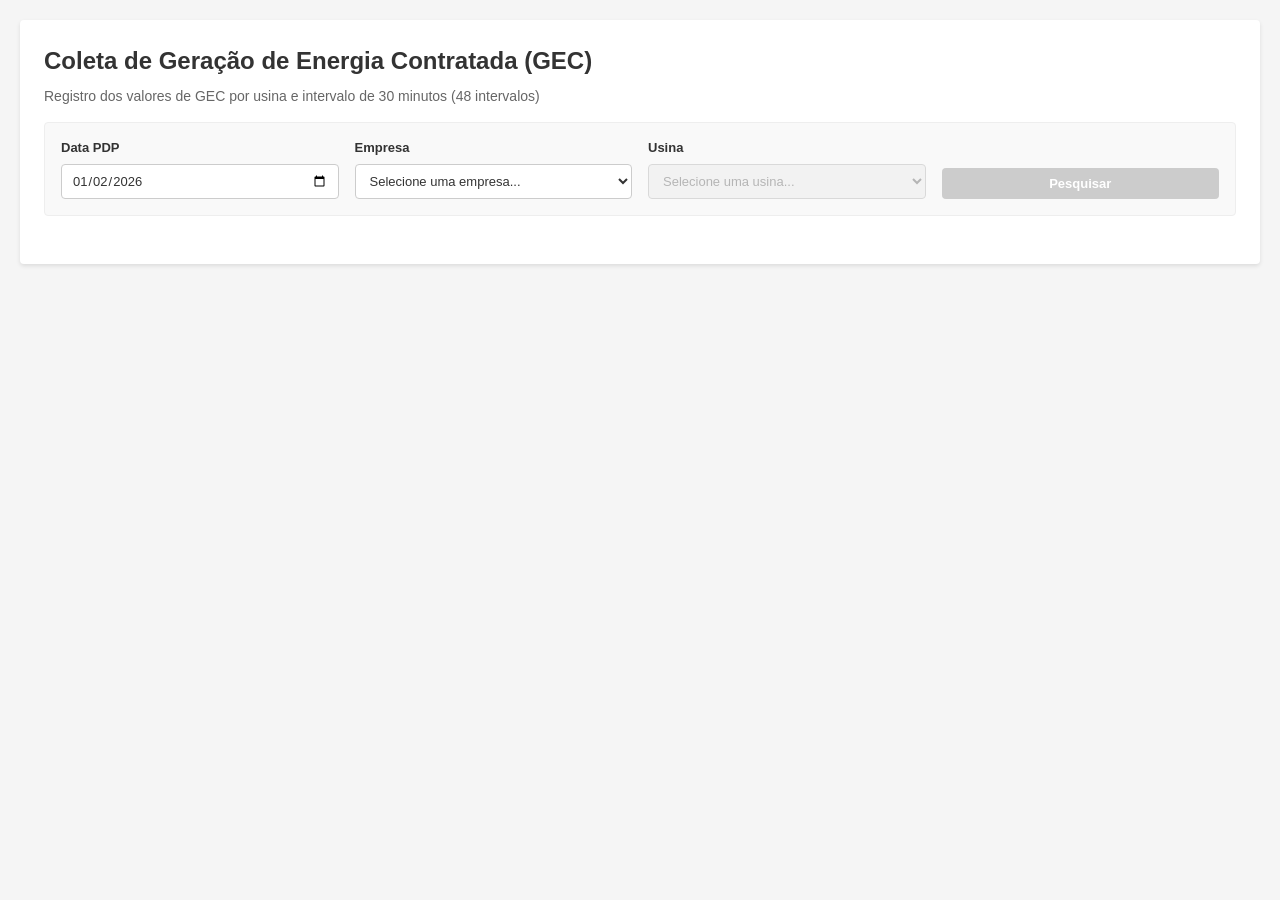
Test case: GEC Component › deve carregar dados para todas as usinas e somar corretamente
Step 1. Select "Empresa Geradora Norte" in the dropdown with test id "company-filter" → {"x": 493, "y": 181}, box [354,164,632,199]
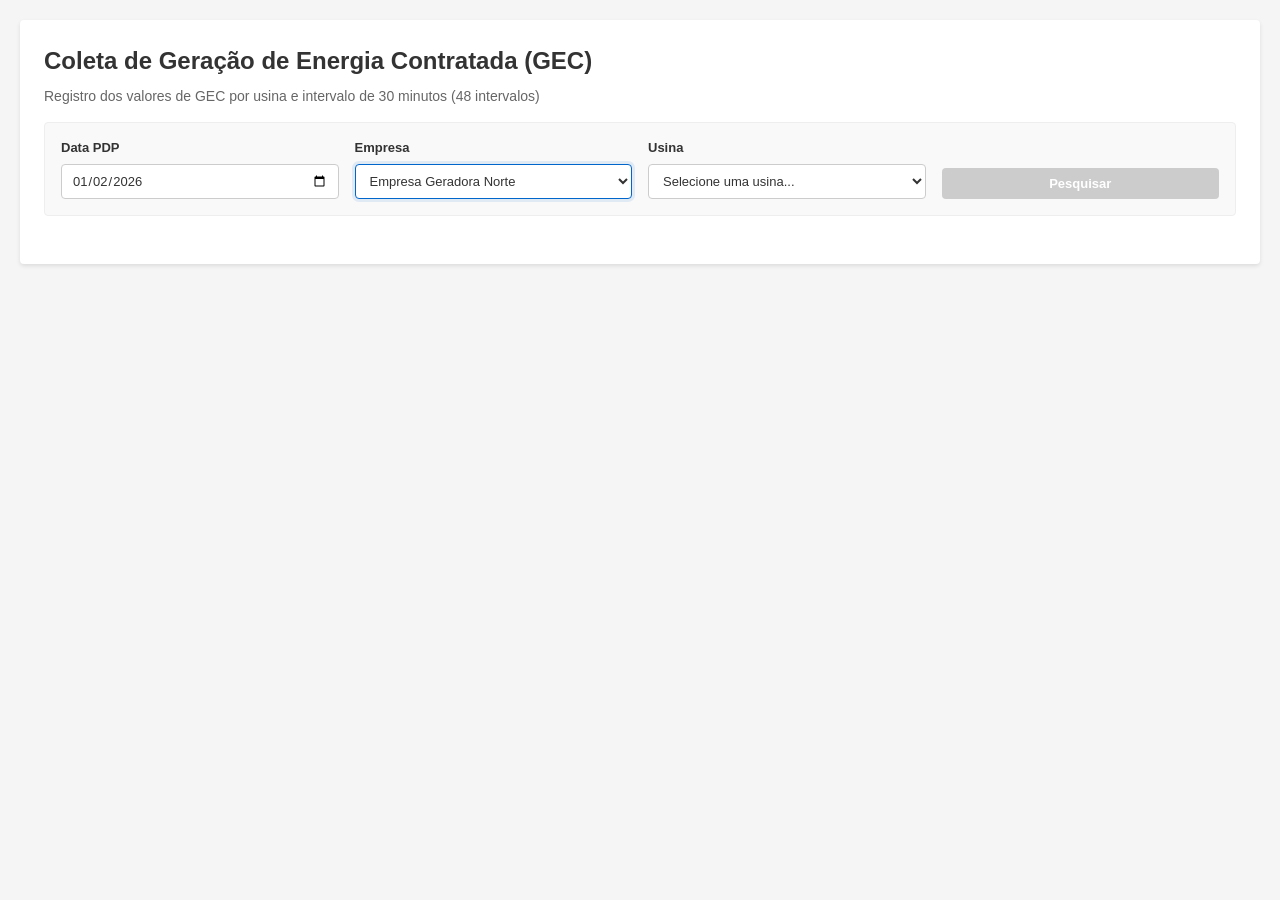
Step 2. Select "Todas as usinas" in the dropdown with test id "plant-filter" → {"x": 787, "y": 181}, box [648,164,926,199]
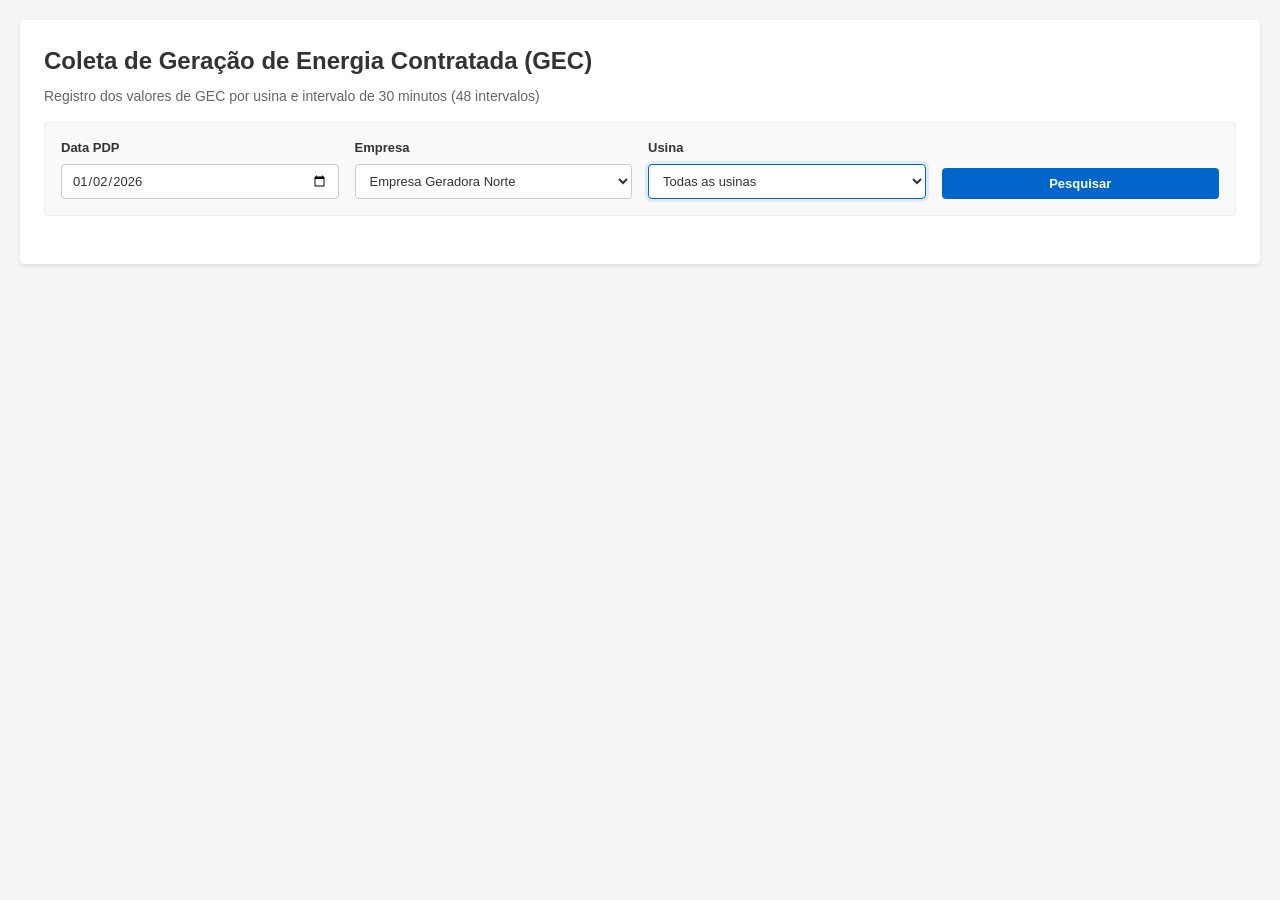
Step 3. Click the button with test id "btn-search" → {"x": 1080, "y": 183}, box [942,168,1219,199]
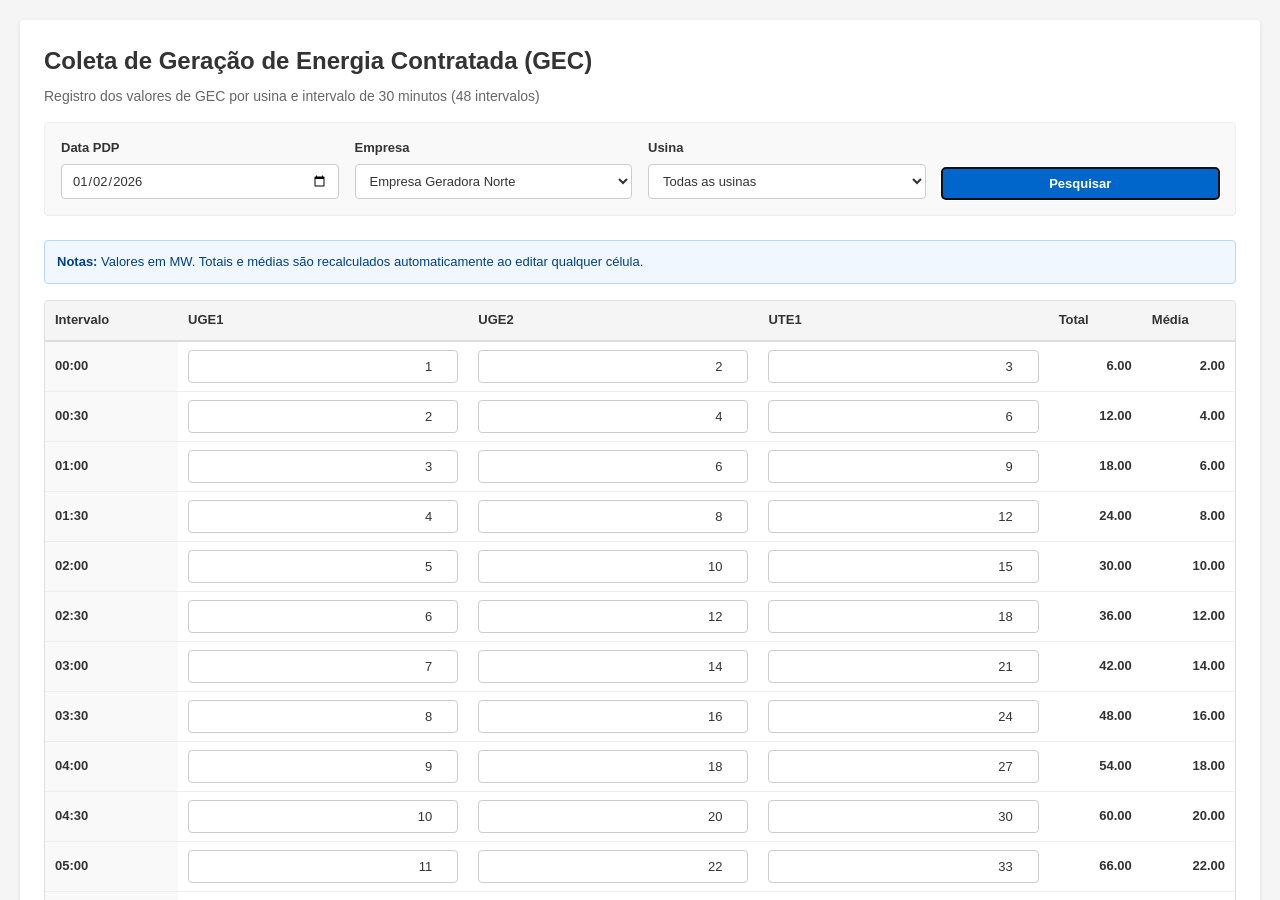
Expected: the cell with test id "total-1" reads "6.00", [1106,358,1132,373]
